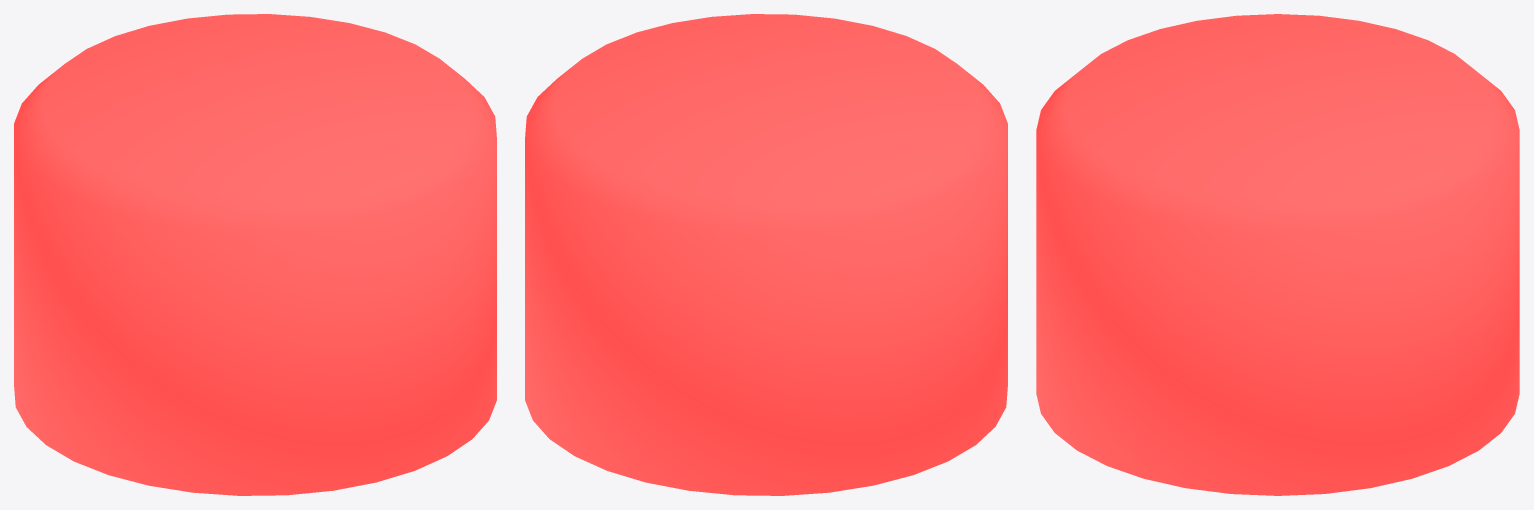
The model's file is Button.fbx.
3 renders of one model, left to right at view 1: azimuth 30°, elevation 25°; view 2: azimuth 150°, elevation 25°; view 3: azimuth 270°, elevation 25°, orthographic.
Visible parts, largest first — view 1: Circle; view 2: Circle; view 3: Circle.
Part boxes in pixels (x1,y1,x2,y2): Circle: [14, 14, 496, 495]; Circle: [525, 14, 1007, 495]; Circle: [1036, 14, 1519, 495].
Bounding box in the file's own units: 200 × 132 × 200.
